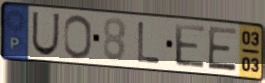8: (102, 16, 129, 65)
E: (173, 22, 207, 71), (206, 25, 239, 73)
L: (136, 20, 163, 66)
O: (62, 13, 93, 61)
U: (30, 10, 62, 58)
